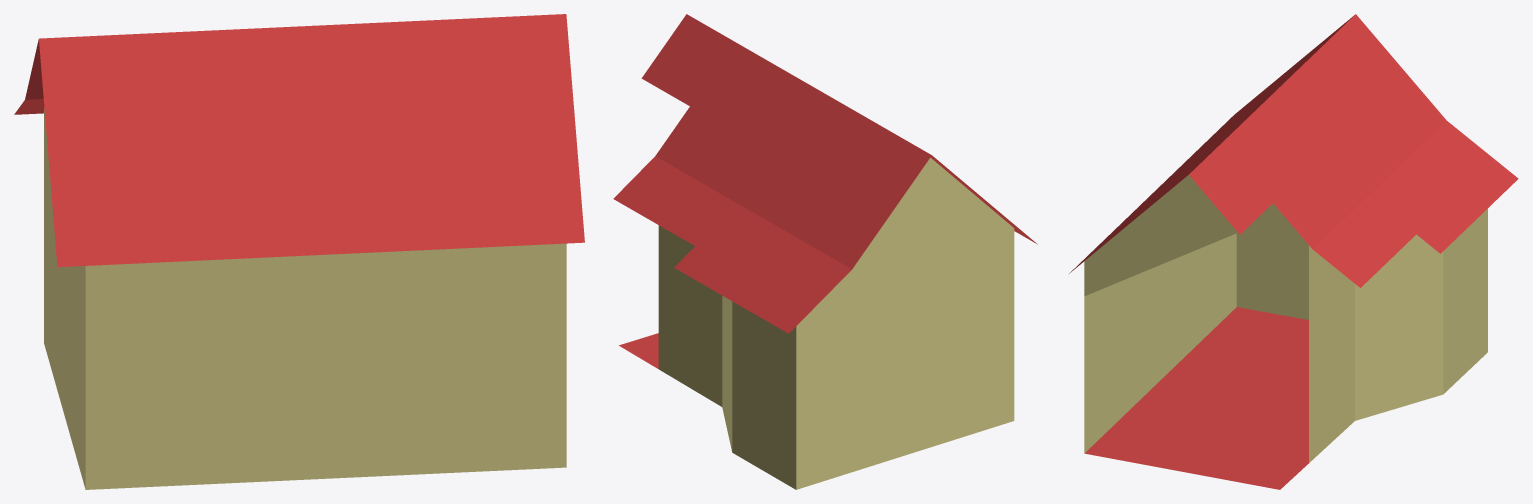
3 renders of one model, left to right at view 1: azimuth 30°, elevation 25°; view 2: azimuth 150°, elevation 25°; view 3: azimuth 270°, elevation 25°, orthographic. The views are drawn at different scales.
Size of the model in its own units: 17.63 by 17.31 by 12.87.
